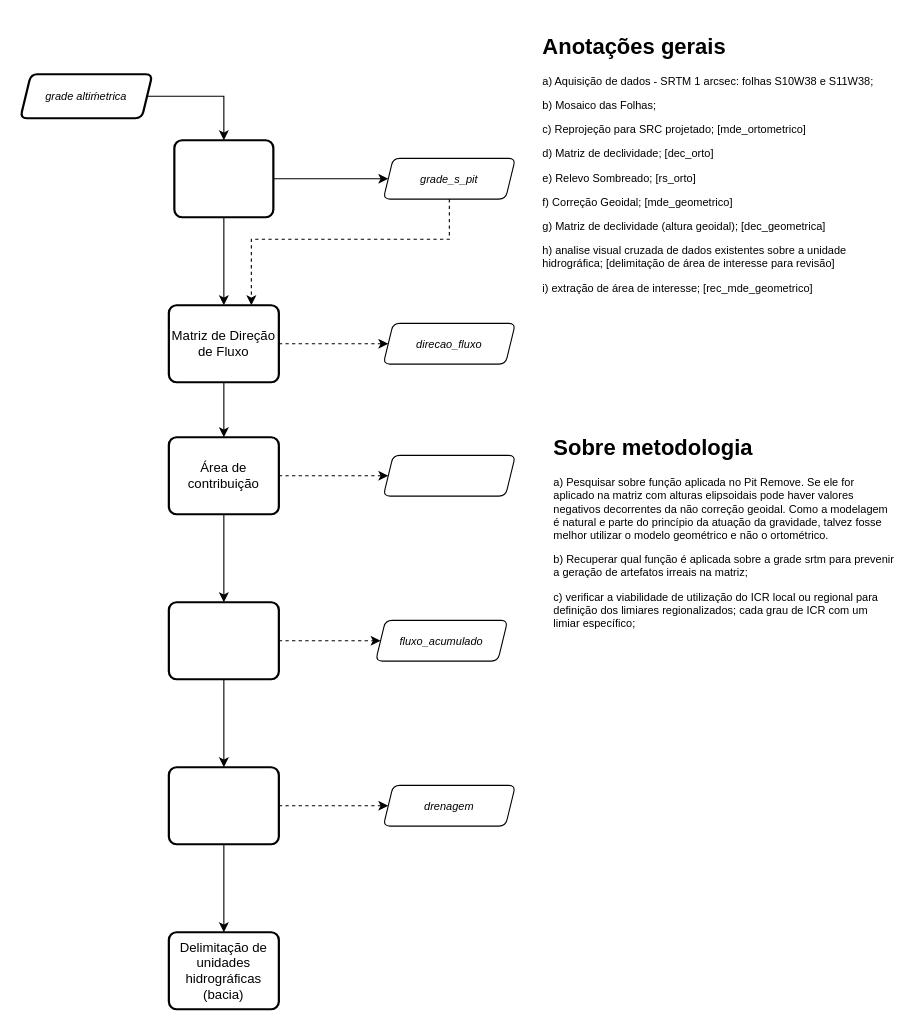
Image size: 919x1029. Some labels were removed from this diagram. The centre of each missing label's shape, as x and y in pixels:
"area_de_contribuicao" belongs at point 448,475.
"Matriz de drenagem" belongs at point 223,805.
"Matriz de fluxo acumulado" belongs at point 223,640.
"Remover depressões espúrias (pit remove)" belongs at point 223,178.
